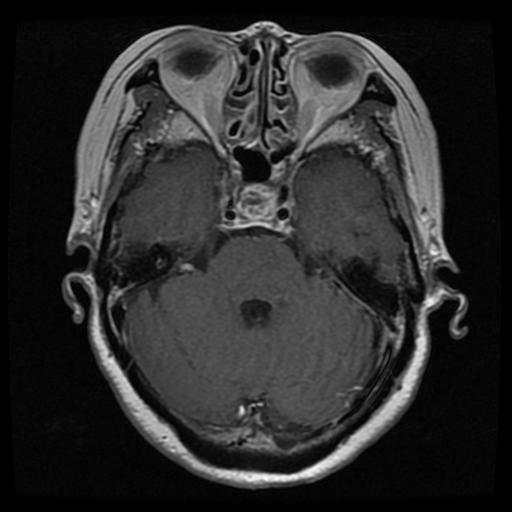Tumour-Pituitary: (214, 178, 296, 237)
